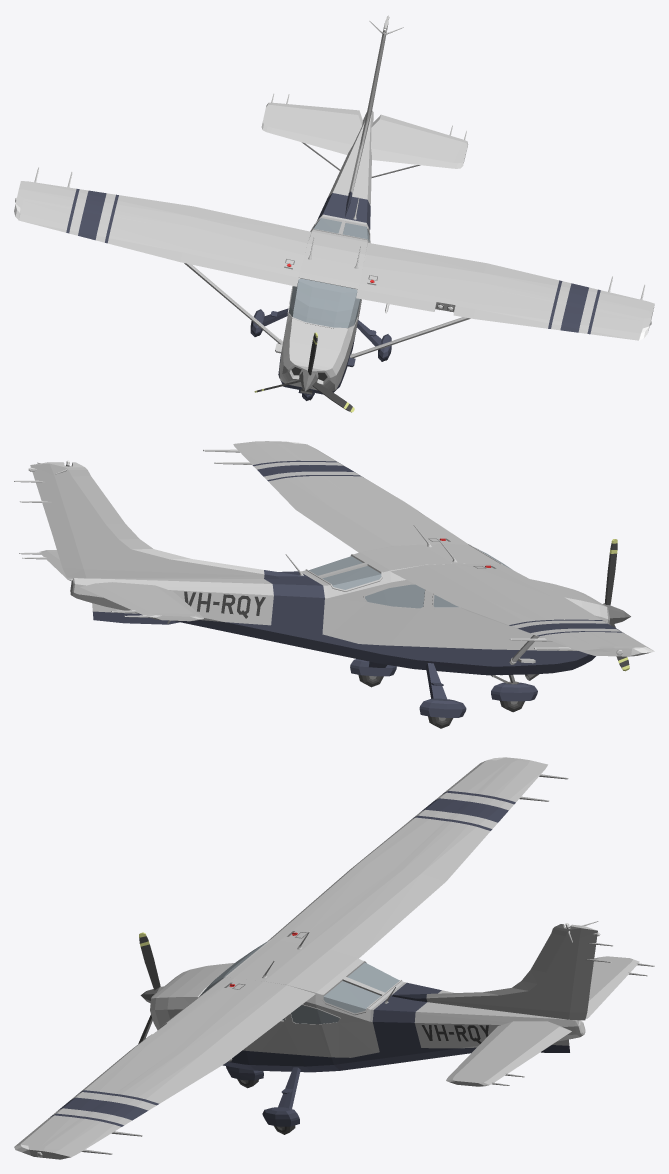
File: Low-Poly_Cessna_172.glb
3 views of the same model, one above another, from view 1: azimuth 30°, elevation 25°; view 2: azimuth 150°, elevation 25°; view 3: azimuth 270°, elevation 25° (orthographic). The views are drawn at different scales.
Visible parts, largest first — view 1: GeometryNode_102, GeometryNode_58, GeometryNode_3, GeometryNode_47, GeometryNode_91; view 2: GeometryNode_102, GeometryNode_58, GeometryNode_3, GeometryNode_47, GeometryNode_91; view 3: GeometryNode_102, GeometryNode_58, GeometryNode_3, GeometryNode_47.
Part boxes in pixels (x1=…): GeometryNode_102: x1=15, y1=15, x2=654, y2=391; GeometryNode_58: x1=66, y1=189, x2=600, y2=400; GeometryNode_3: x1=288, y1=218, x2=369, y2=327; GeometryNode_47: x1=257, y1=334, x2=386, y2=411; GeometryNode_91: x1=284, y1=32, x2=454, y2=391; GeometryNode_102: x1=16, y1=441, x2=653, y2=676; GeometryNode_58: x1=93, y1=460, x2=622, y2=717; GeometryNode_3: x1=309, y1=547, x2=512, y2=608; GeometryNode_47: x1=184, y1=543, x2=629, y2=728; GeometryNode_91: x1=66, y1=465, x2=630, y2=720; GeometryNode_102: x1=14, y1=757, x2=652, y2=1159; GeometryNode_58: x1=50, y1=791, x2=569, y2=1126; GeometryNode_3: x1=199, y1=941, x2=399, y2=1024; GeometryNode_47: x1=138, y1=936, x2=488, y2=1134.
Bounding box in the file's own units: 10.73 × 4.91 × 9.79.
